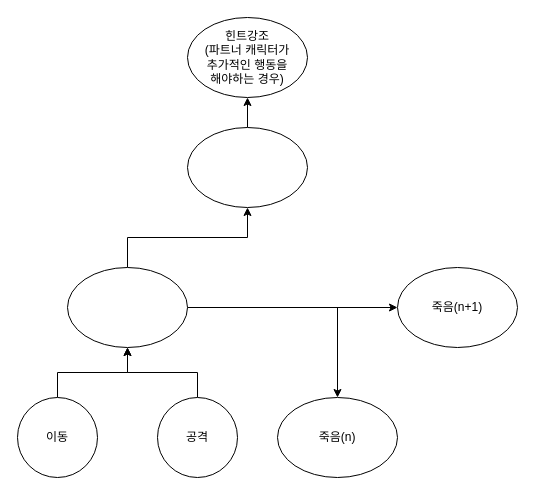
Image size: 535x495. Some labels were removed from this diagram. The shapes that lost their labels are listed below. From the top down, each one's centre as x and y in pixels, then its label:
At point 247,167: "아이들".
At point 127,307: "액션".
